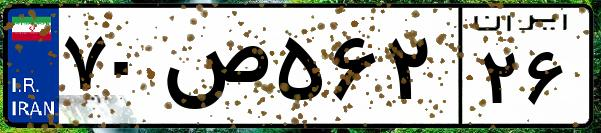0: (110, 28, 158, 98)
2: (385, 28, 445, 110), (475, 38, 525, 113)
5: (270, 28, 330, 110)
6: (330, 28, 385, 110), (525, 38, 570, 115)
7: (57, 26, 110, 100)
ص: (158, 20, 270, 120)
